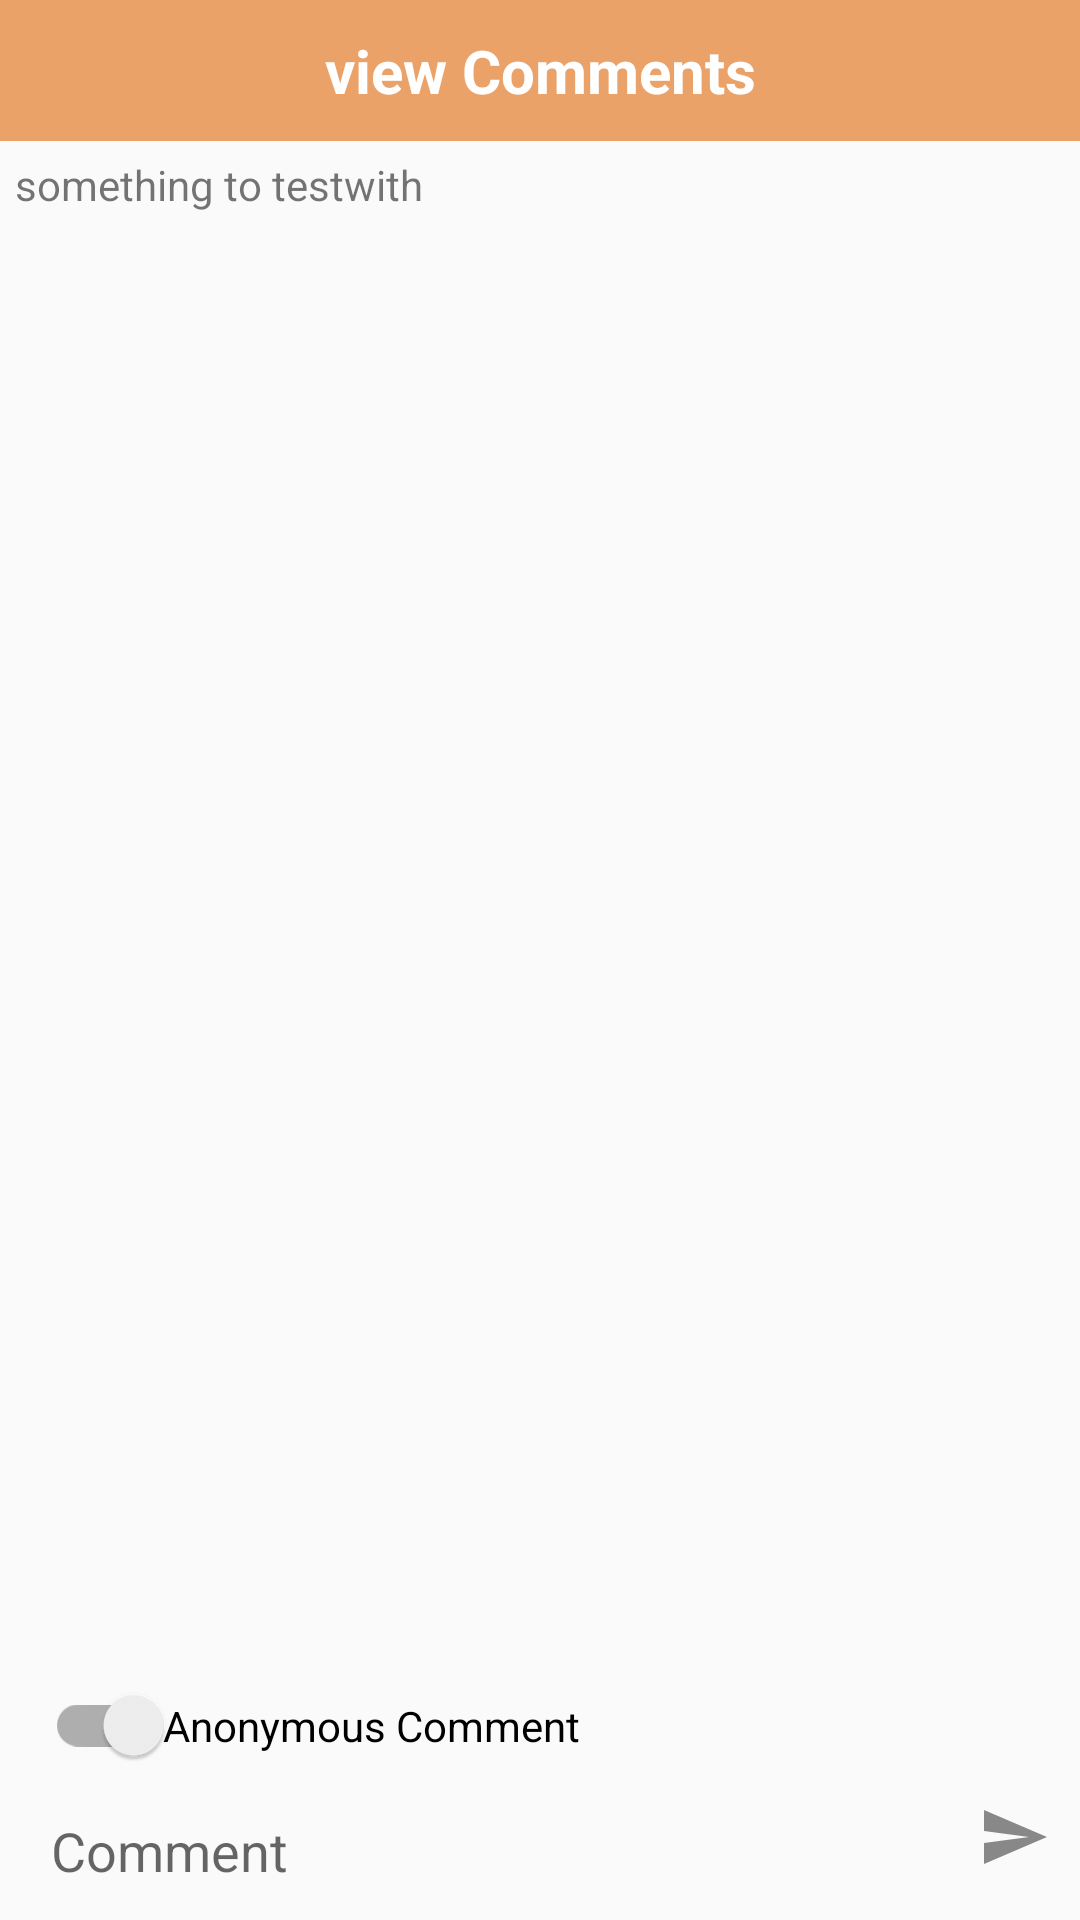

Named icons in this screenshot (1080 x 1920) and their centers, (x,y):
send: (1015,1837)
